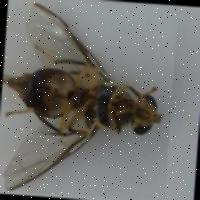Oriental-fruit-fly: (0, 0, 176, 200)
